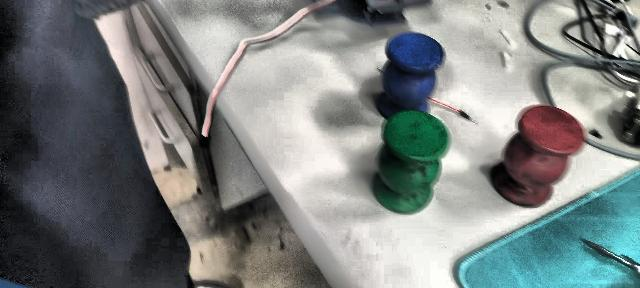blue: (379, 28, 445, 118)
green: (376, 114, 449, 220)
red: (487, 101, 583, 209)
